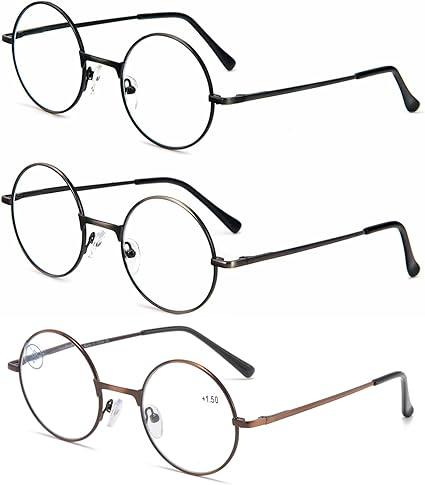spectacles: (4, 320, 415, 482), (1, 2, 421, 147), (8, 164, 425, 310)
